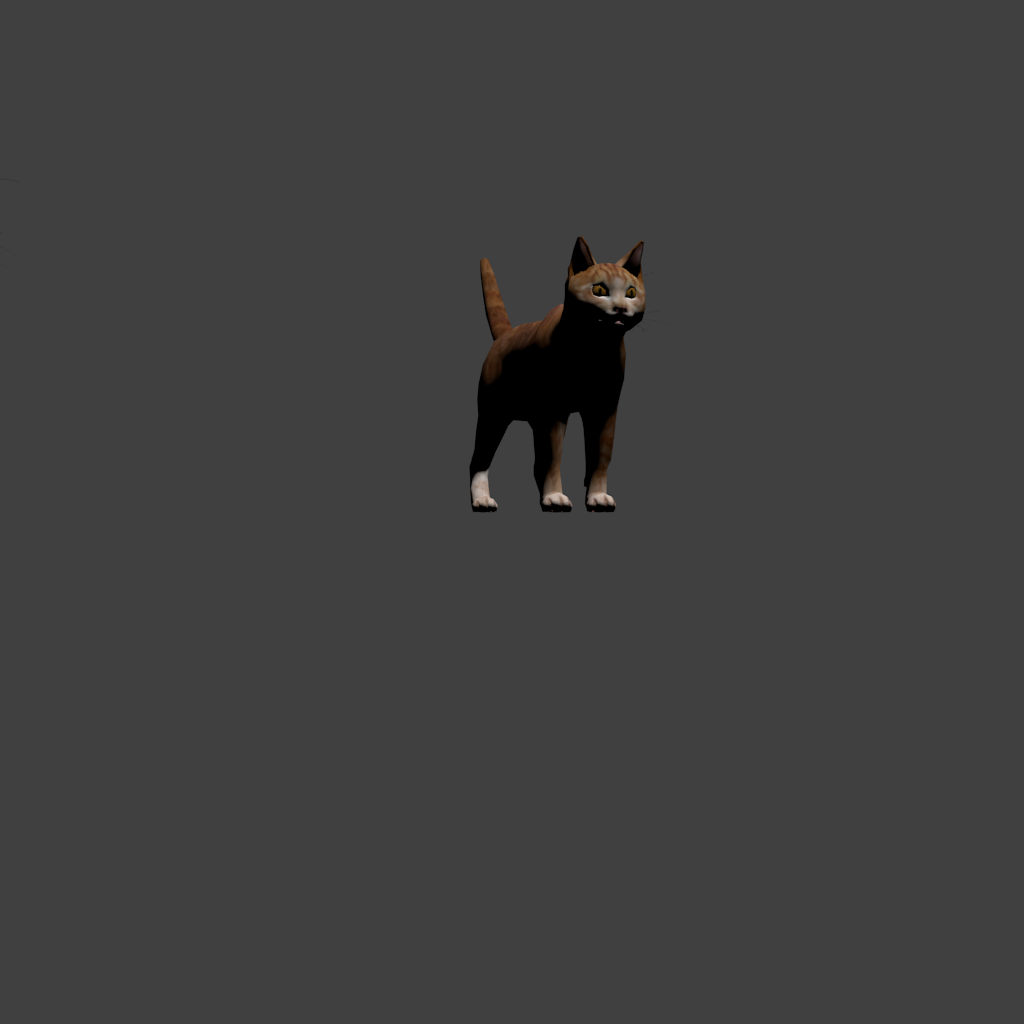Cat: (0, 98, 24, 415)
